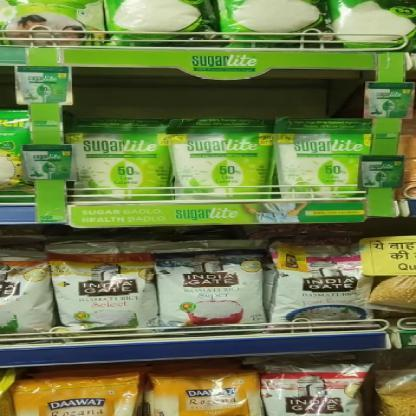SUGARLITE POUCH 500G: (168, 120, 272, 200), (69, 121, 174, 199), (278, 118, 374, 199)
